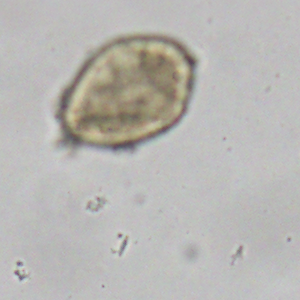Fasciola_hepatica_egg: (56, 34, 198, 148)
